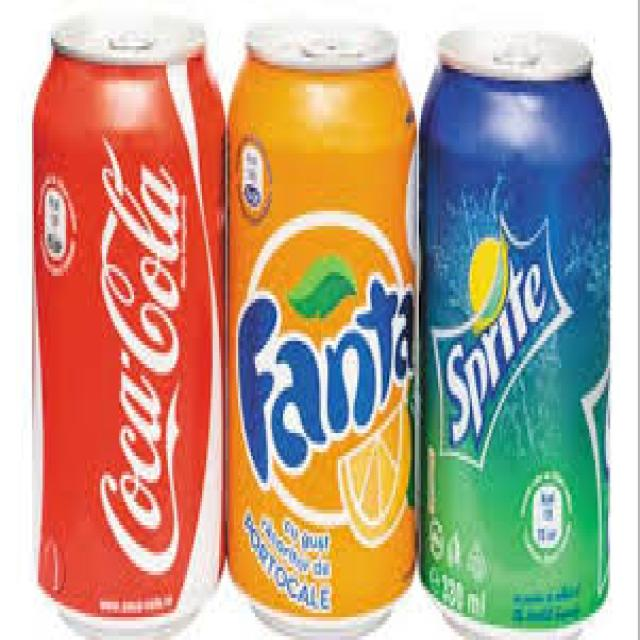Cans: (225, 12, 426, 636), (28, 4, 225, 632), (421, 15, 617, 632)
